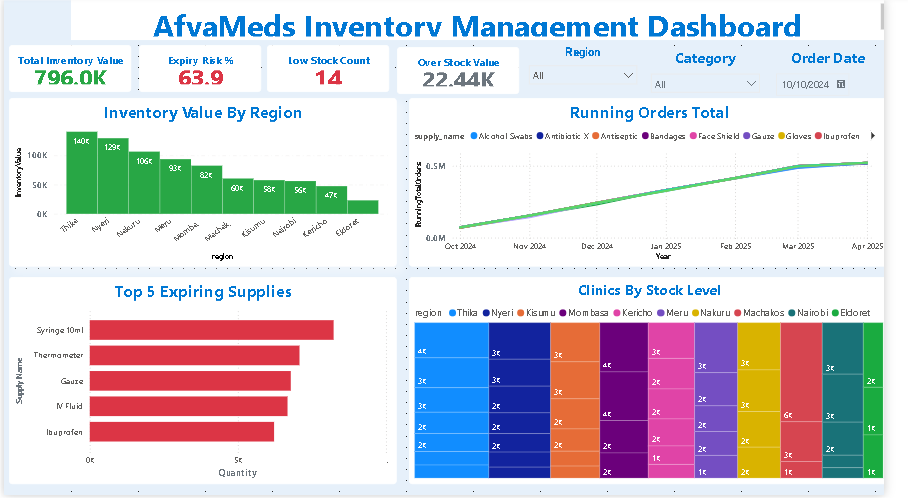

The page's visual inventory and layout, read from the dashboard file:
{"tool":"powerbi","page":{"name":"AfyaMeds Dashboard","canvas":[1280,720],"ordinal":0},"visuals":[{"type":"textbox","box":[95,0,1165.5,57.2],"z":0},{"type":"card","title":"Total Inventory Value","fields":{"Values":["afya_db clinics.TotalInventoryValue"]},"box":[7.3,64.5,174.2,67],"z":1000},{"type":"card","title":"Expiry Risk %","fields":{"Values":["afya_db clinics.ExpiryRiskPercent"]},"box":[192.4,64.5,174.2,67],"z":2000},{"type":"columnChart","title":"Inventory Value By Region","fields":{"Y":["afya_db clinics.InventoryValue"],"Category":["afya_db clinics.region"]},"box":[7.3,138.8,551.7,239.9],"z":3000},{"type":"lineChart","title":"Running Orders Total","fields":{"Series":["afya_db supplies.supply_name"],"Category":["afya_db orders.order_date.Variation.Date Hierarchy.Year","afya_db orders.order_date.Variation.Date Hierarchy.Month"],"Y":["afya_db clinics.RunningTotalOrders"]},"box":[577.3,138.8,683.2,239.9],"z":4000},{"type":"barChart","title":"Top  5 Expiring Supplies","fields":{"Category":["afya_db supplies.supply_name"],"Y":["Sum(afya_db inventory.quantity)"]},"box":[7.3,394.6,551.7,294.7],"z":5000},{"type":"card","title":"Low Stock Count","fields":{"Values":["afya_db clinics.LowStockCount"]},"box":[375.1,64.5,174.2,67],"z":6000},{"type":"card","title":"Over Stock Value","fields":{"Values":["afya_db clinics.OverstockValue"]},"box":[559,67,174.2,67],"z":7000},{"type":"slicer","title":"Region","fields":{"Values":["afya_db clinics.region"]},"box":[736.8,64.5,174.2,71.9],"z":8000},{"type":"slicer","title":"Category","fields":{"Values":["afya_db supplies.category"]},"box":[911,67,175.4,71.9],"z":9000},{"type":"slicer","title":"Order Date","fields":{"Values":["afya_db orders.order_date"]},"box":[1086.4,67,174.2,71.9],"z":10000},{"type":"treemap","title":"Clinics By Stock Level","fields":{"Group":["afya_db clinics.region"],"Values":["Sum(afya_db inventory.quantity)"],"Details":["afya_db clinics.clinic_name"]},"box":[577.3,394.6,683.2,294.7],"z":11000}]}

Visuals, with their boxes in screenshot pixels (x1, y1, x2, y2), scaled from the page's 1280x720 canvas onto the 908x498 screenshot:
textbox: detection(67, 0, 894, 40)
"Total Inventory Value" card: detection(5, 45, 129, 91)
"Expiry Risk %" card: detection(136, 45, 260, 91)
"Inventory Value By Region" columnChart: detection(5, 96, 397, 262)
"Running Orders Total" lineChart: detection(410, 96, 894, 262)
"Top  5 Expiring Supplies" barChart: detection(5, 273, 397, 477)
"Low Stock Count" card: detection(266, 45, 390, 91)
"Over Stock Value" card: detection(397, 46, 520, 93)
"Region" slicer: detection(523, 45, 646, 94)
"Category" slicer: detection(646, 46, 771, 96)
"Order Date" slicer: detection(771, 46, 894, 96)
"Clinics By Stock Level" treemap: detection(410, 273, 894, 477)
